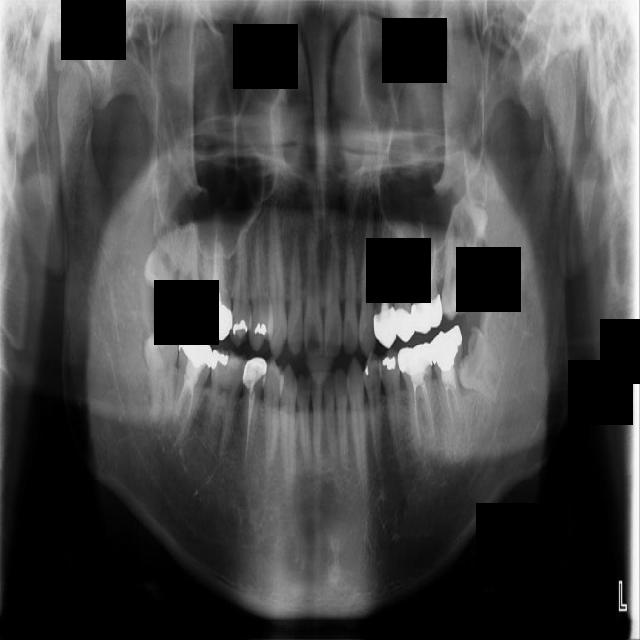3M ESPE Implant: (140, 208, 185, 310)
52: (422, 325, 472, 375), (395, 341, 439, 389), (177, 331, 214, 384), (209, 347, 248, 396), (197, 294, 235, 342), (411, 287, 442, 333), (172, 280, 202, 327), (248, 300, 274, 351), (226, 306, 255, 348), (377, 346, 402, 388), (392, 297, 415, 342), (373, 306, 396, 348), (361, 350, 382, 393), (243, 357, 266, 396)
73: (195, 214, 231, 307), (168, 363, 207, 447), (405, 380, 444, 453), (436, 358, 464, 434), (375, 221, 397, 312), (415, 213, 438, 299), (238, 394, 261, 479), (614, 589, 626, 600)
BioHorizons Implant: (440, 210, 476, 322)
BioLife Implant: (457, 198, 489, 261)
Biomet 3i Implant: (456, 325, 506, 406)
Blue Sky Bio Implant: (429, 325, 464, 434)
Caries: (167, 225, 203, 329)
Implant: (169, 330, 217, 447)
Keystone Dental Implant: (142, 324, 179, 423)
